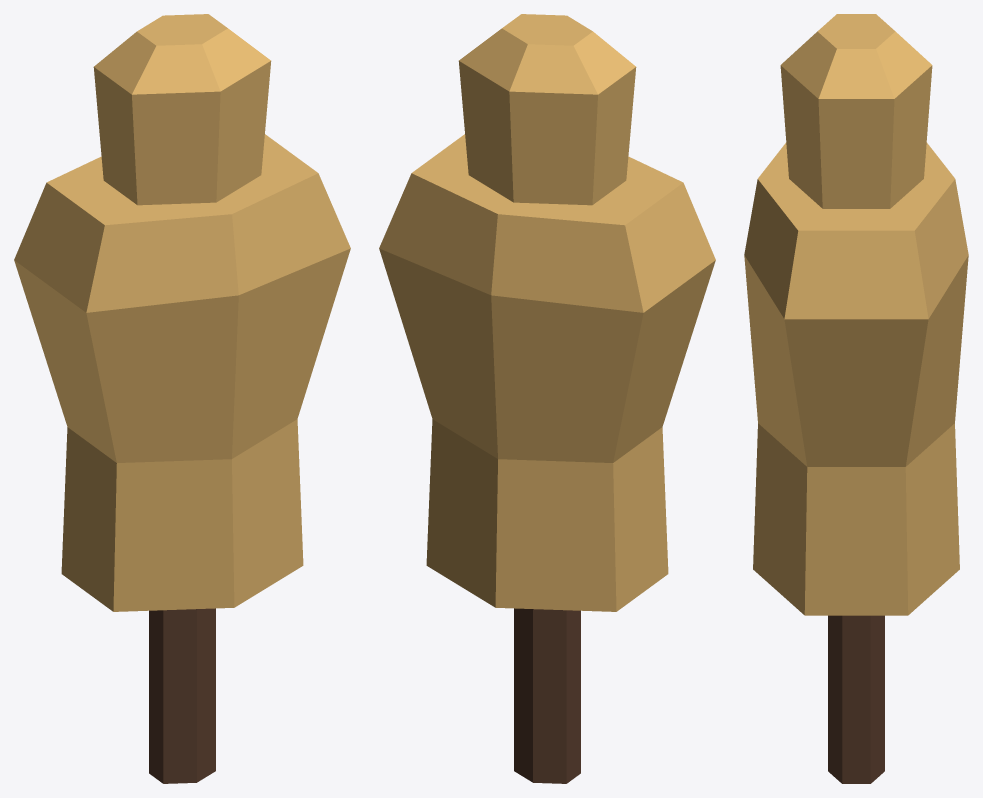
The model's file is Dummy.glb.
The picture shows the model from 3 angles, left to right: view 1: azimuth 30°, elevation 25°; view 2: azimuth 150°, elevation 25°; view 3: azimuth 270°, elevation 25°; orthographic projection.
Parts seen in each view (by area): view 1: Dummy; view 2: Dummy; view 3: Dummy.
Boxes of the visible parts, bbox=[...] form: Dummy: bbox=[14, 14, 350, 783]; Dummy: bbox=[379, 14, 715, 783]; Dummy: bbox=[744, 14, 968, 783].
Bounding box in the file's own units: 0.4302 × 1.15 × 0.3172.
